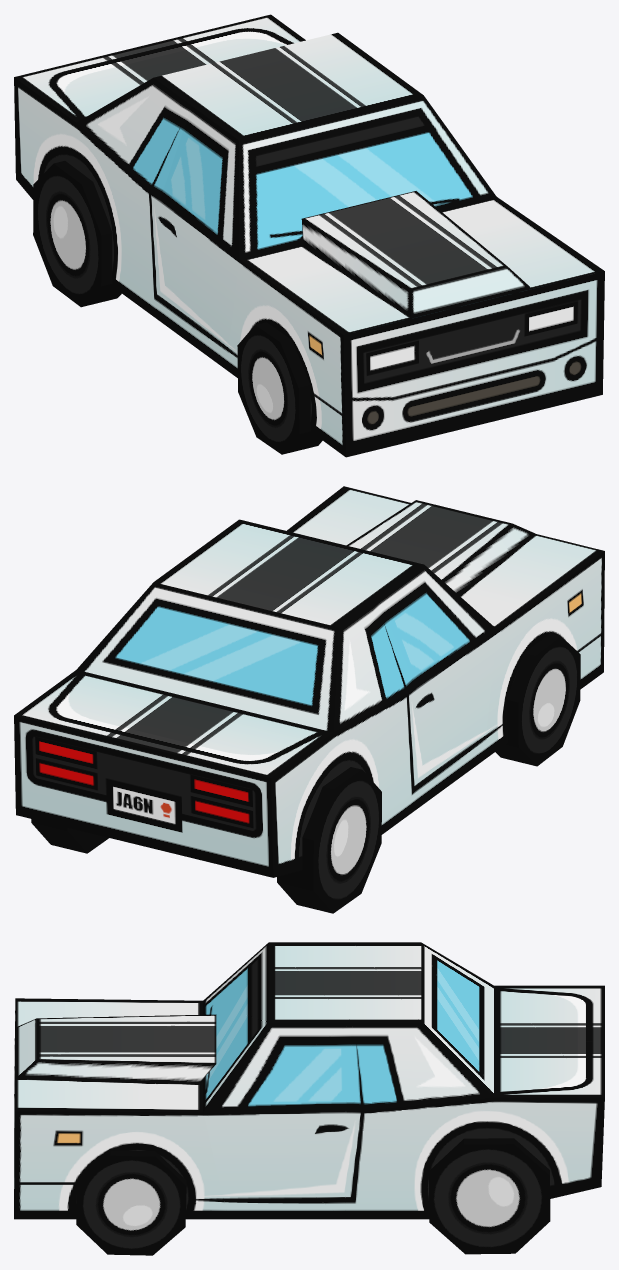
File: car8_10.gltf
3 renders of one model, top to bottom at view 1: azimuth 30°, elevation 25°; view 2: azimuth 150°, elevation 25°; view 3: azimuth 270°, elevation 25°, orthographic. The views are drawn at different scales.
Parts seen in each view (by area): view 1: Cylinder.002; view 2: Cylinder.002; view 3: Cylinder.002.
Part boxes in pixels (x1=…): Cylinder.002: x1=14, y1=14, x2=604, y2=457; Cylinder.002: x1=14, y1=486, x2=604, y2=913; Cylinder.002: x1=14, y1=942, x2=604, y2=1255.
Size of the model in its own units: 2.79 by 2.25 by 5.69.
Materials: 1 (1 with a texture image).
